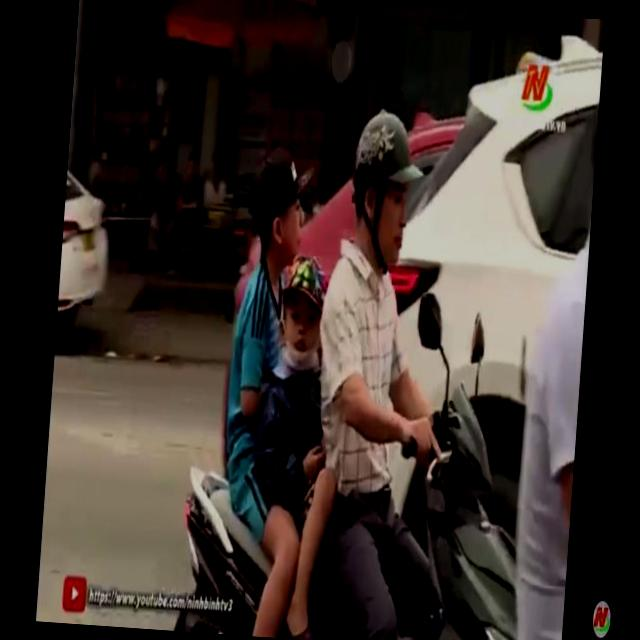motorcycle: (168, 353, 551, 640)
person: (299, 90, 472, 640), (210, 139, 330, 617), (230, 247, 343, 640)
rider_region: (157, 87, 578, 640)
